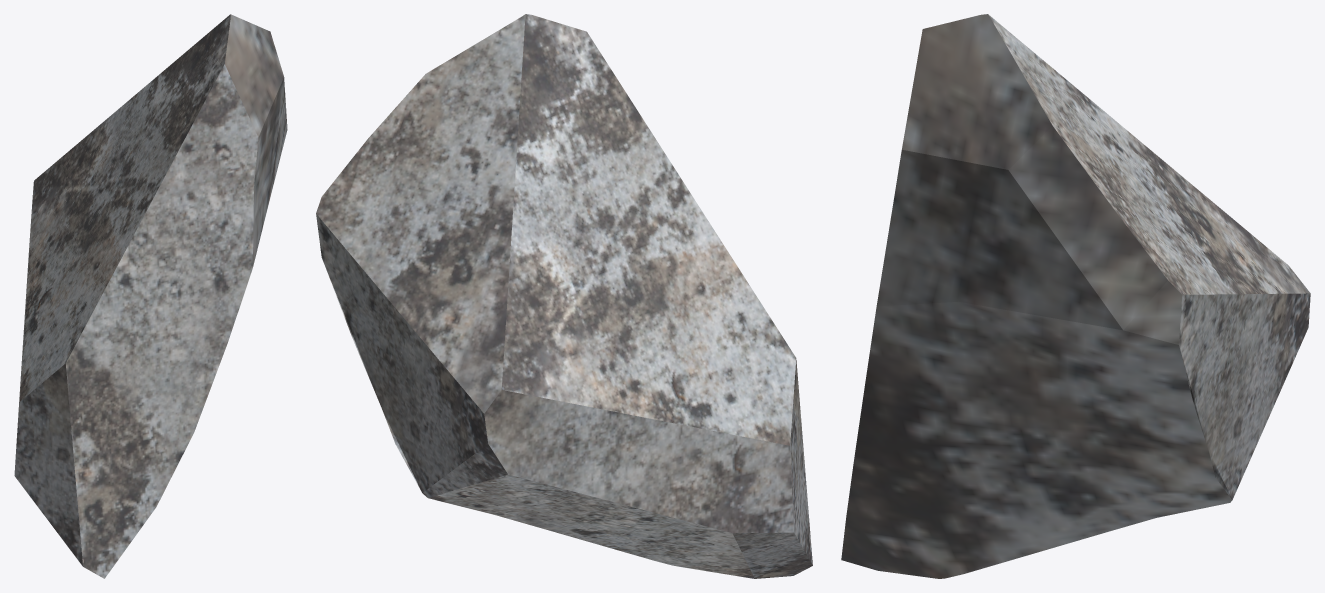
Rendered from Asteroid_Medium_001_02_001_03_001.fbx.
3 views of the same model, side by side, from view 1: azimuth 30°, elevation 25°; view 2: azimuth 150°, elevation 25°; view 3: azimuth 270°, elevation 25° (orthographic). The views are drawn at different scales.
Parts seen in each view (by area): view 1: Asteroid_Medium_001_02_001_03_001; view 2: Asteroid_Medium_001_02_001_03_001; view 3: Asteroid_Medium_001_02_001_03_001.
Boxes of the visible parts, x1=… form: Asteroid_Medium_001_02_001_03_001: x1=14, y1=14, x2=287, y2=578; Asteroid_Medium_001_02_001_03_001: x1=316, y1=14, x2=812, y2=578; Asteroid_Medium_001_02_001_03_001: x1=841, y1=14, x2=1310, y2=578.
Bounding box in the file's own units: 10.65 × 14.6 × 9.31.
